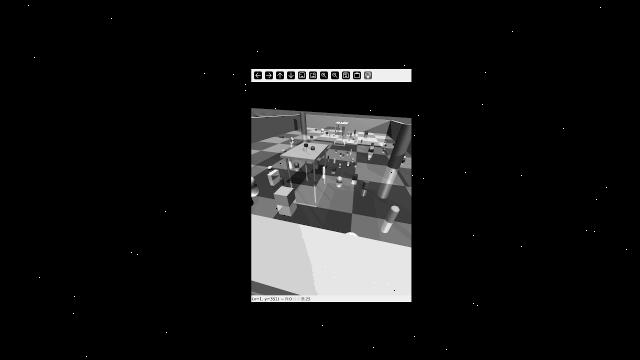cilindro: (388, 120, 412, 170), (386, 205, 401, 222), (300, 111, 307, 134), (359, 179, 372, 191), (322, 166, 326, 175), (279, 178, 285, 183), (290, 136, 295, 141), (333, 158, 338, 163), (288, 158, 292, 164), (279, 135, 286, 138), (353, 140, 358, 144), (303, 147, 307, 152), (401, 158, 406, 162), (288, 142, 293, 146), (353, 162, 359, 165), (349, 149, 353, 153), (360, 139, 363, 144), (354, 129, 357, 134), (327, 155, 330, 160), (343, 126, 346, 131), (346, 151, 349, 154), (329, 133, 331, 137), (351, 132, 352, 136), (342, 121, 343, 123)
cuadrado: (272, 187, 299, 207), (353, 173, 358, 180), (280, 149, 287, 154), (316, 160, 320, 166), (304, 143, 309, 147), (364, 130, 369, 134), (347, 135, 351, 139), (371, 142, 374, 146), (371, 145, 374, 149), (310, 135, 313, 138), (392, 143, 396, 145), (326, 131, 328, 134), (384, 140, 386, 143), (345, 122, 346, 124), (316, 129, 317, 130)
esfera: (335, 175, 345, 183), (292, 161, 299, 169), (268, 165, 274, 170), (311, 145, 316, 151), (321, 128, 325, 132), (352, 136, 356, 140), (338, 163, 342, 167), (321, 132, 325, 135), (335, 149, 338, 152), (351, 158, 354, 161), (333, 134, 336, 136), (384, 144, 387, 146), (403, 156, 406, 158), (343, 154, 345, 156), (383, 149, 385, 151), (340, 121, 341, 123)
rectangulo: (266, 172, 282, 185), (332, 165, 337, 174), (369, 148, 375, 152), (341, 135, 346, 138), (346, 133, 350, 135)
